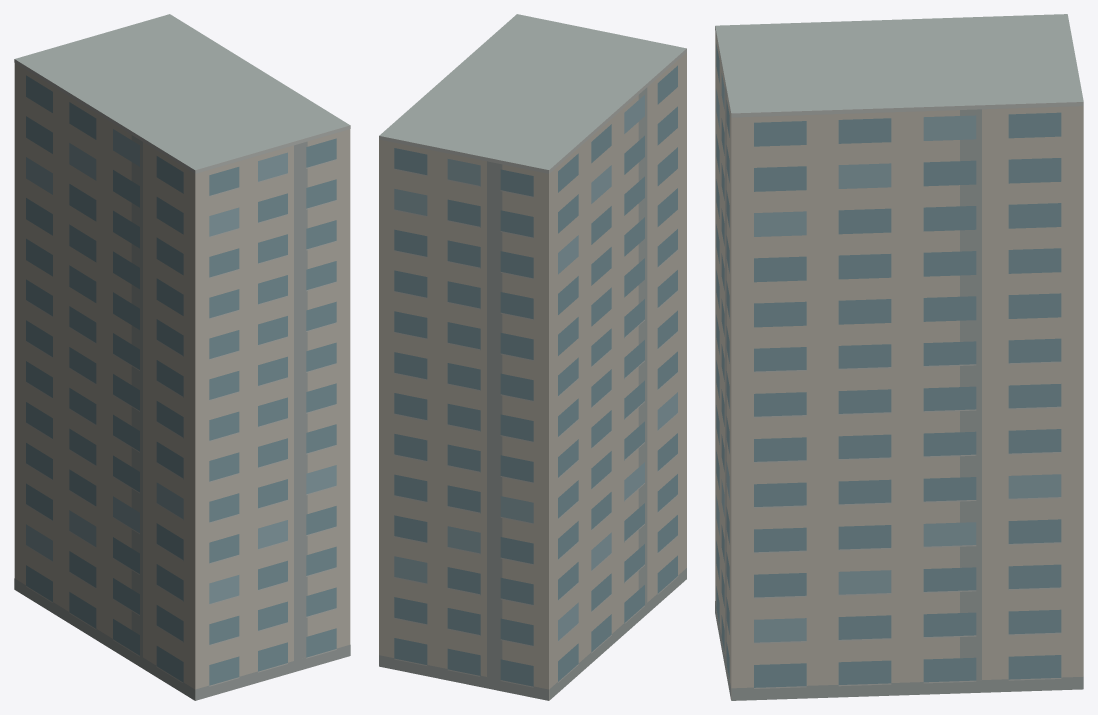
Rendered from residential-1997e9da-e18c-4bcb-aa26-ea3452c0ed32.glb.
3 views of the same model, side by side, from view 1: azimuth 30°, elevation 25°; view 2: azimuth 150°, elevation 25°; view 3: azimuth 270°, elevation 25° (orthographic). The views are drawn at different scales.
Parts seen in each view (by area): view 1: residential-1997e9da-e18c-4bcb-aa26-ea3452c0ed32.tmp; view 2: residential-1997e9da-e18c-4bcb-aa26-ea3452c0ed32.tmp; view 3: residential-1997e9da-e18c-4bcb-aa26-ea3452c0ed32.tmp.
Boxes of the visible parts, x1,y1,x2,y2 form: residential-1997e9da-e18c-4bcb-aa26-ea3452c0ed32.tmp: (14, 14, 350, 700); residential-1997e9da-e18c-4bcb-aa26-ea3452c0ed32.tmp: (379, 14, 686, 700); residential-1997e9da-e18c-4bcb-aa26-ea3452c0ed32.tmp: (715, 14, 1083, 700).
Size of the model in its own units: 12.72 by 35 by 19.92.
